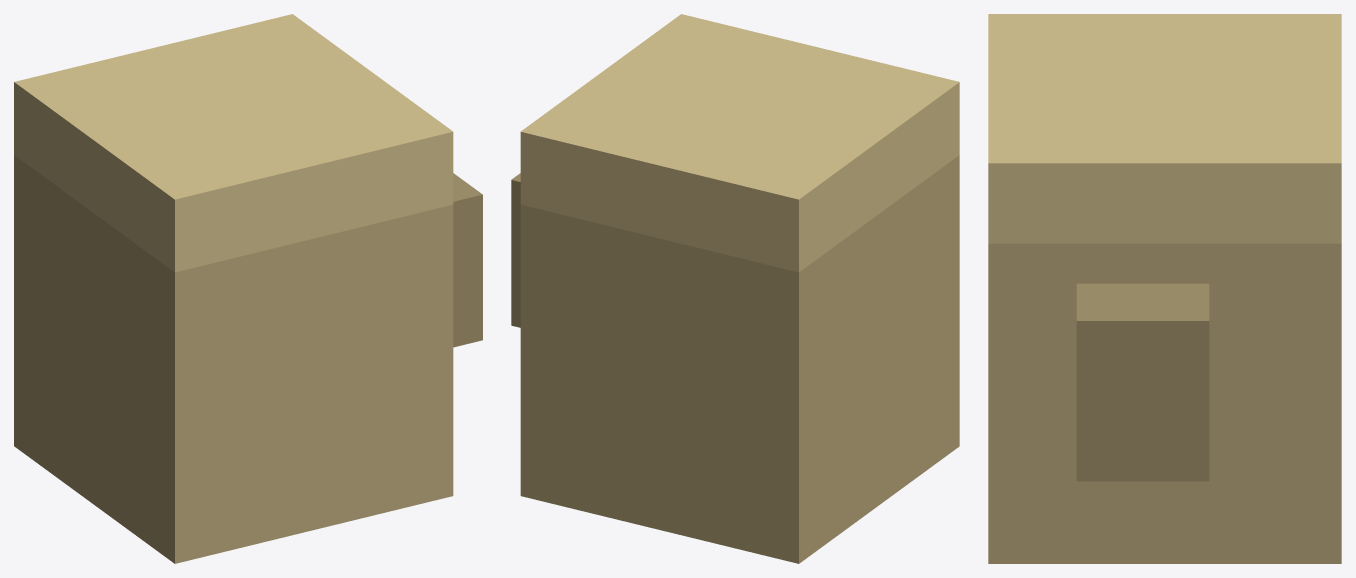
File: jarra_cerveza_01.glb
3 views of the same model, side by side, from view 1: azimuth 30°, elevation 25°; view 2: azimuth 150°, elevation 25°; view 3: azimuth 270°, elevation 25° (orthographic). The views are drawn at different scales.
Visible parts, largest first — view 1: jarra_cerveza; view 2: jarra_cerveza; view 3: jarra_cerveza.
Boxes of the visible parts, x1,y1,x2,y2 form: jarra_cerveza: (14,14,482,563); jarra_cerveza: (511,14,959,563); jarra_cerveza: (988,14,1341,563).
Size of the model in its own units: 0.7143 by 0.7143 by 0.5714.
